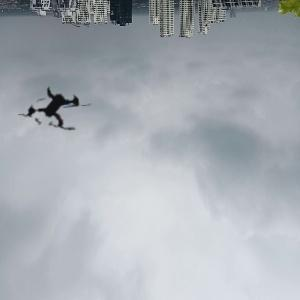drone: (3, 59, 107, 163)
